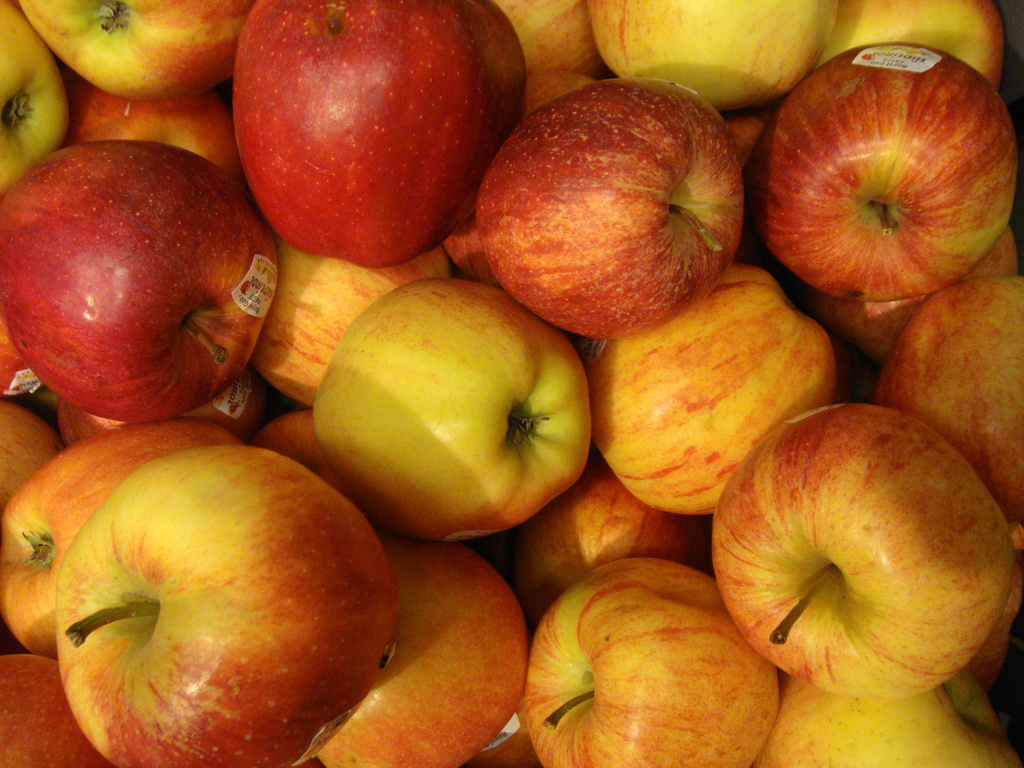Apple: (0, 0, 1023, 767), (7, 433, 401, 766)
